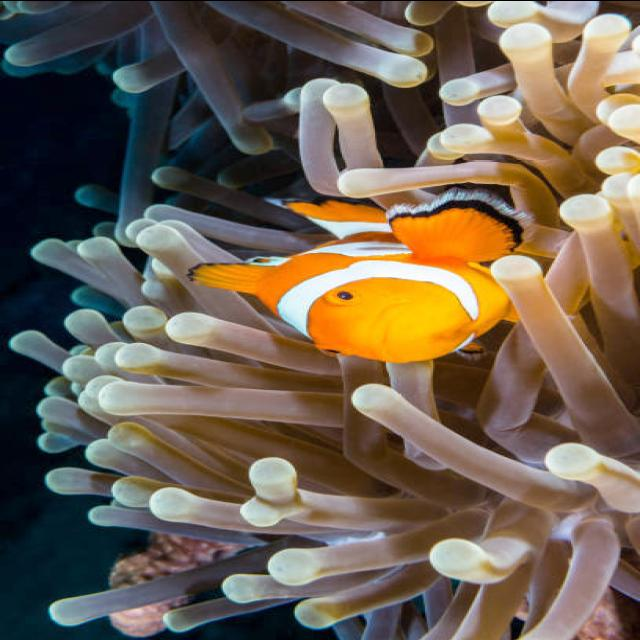ClownFish: (183, 194, 544, 358)
